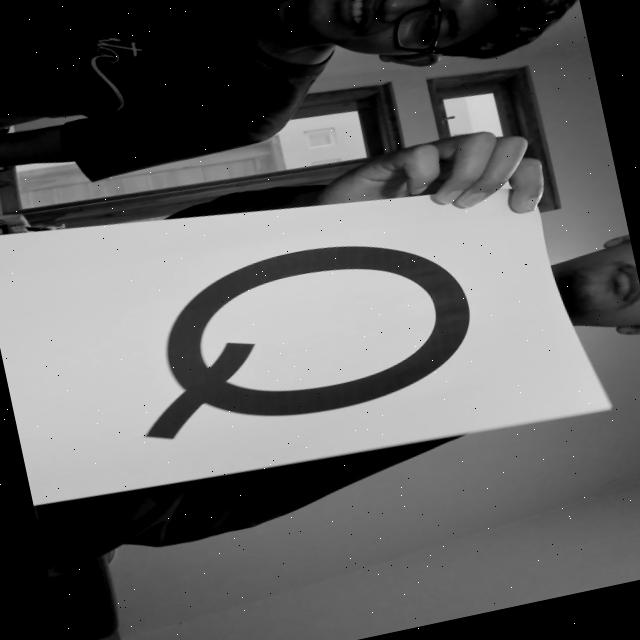q: (84, 195, 512, 486)
